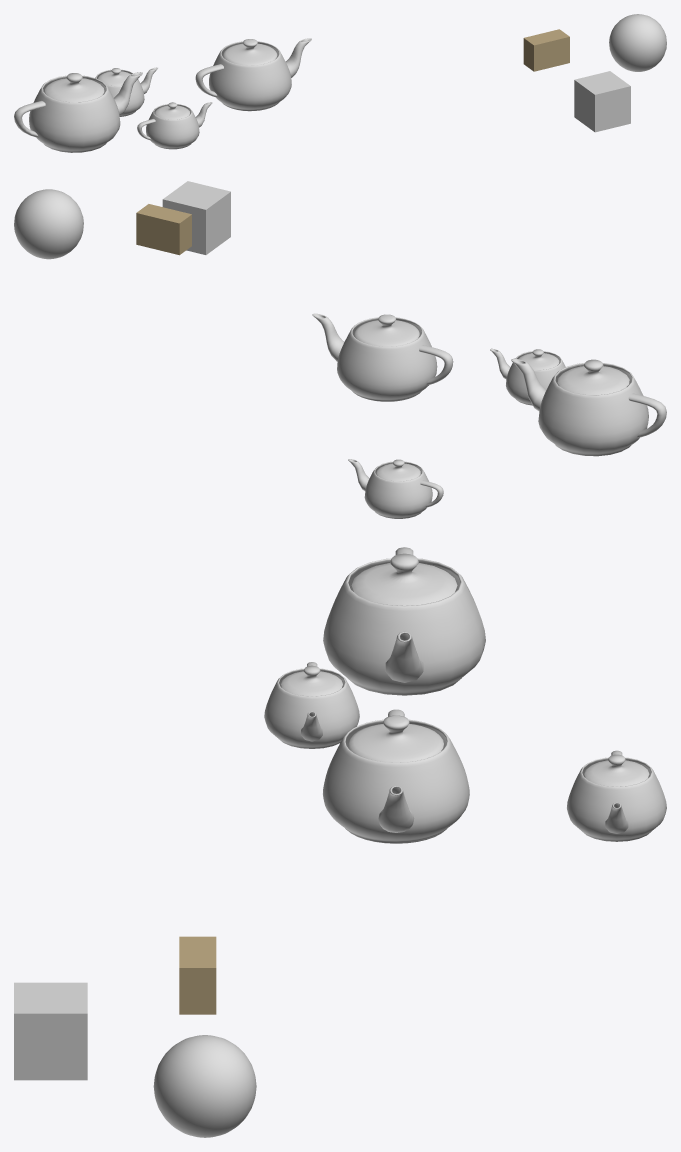
Rendered from sample_FBX201600_binary.fbx.
3 views of the same model, one above another, from view 1: azimuth 30°, elevation 25°; view 2: azimuth 150°, elevation 25°; view 3: azimuth 270°, elevation 25° (orthographic). The views are drawn at different scales.
Visible parts, largest first — view 1: Teapot_as_box, Teapot_default, Cube, Sphere001, Teapot_frozen, Box001, Teapot_no_render; view 2: Teapot_as_box, Teapot_default, Sphere001, Teapot_no_render, Cube, Box001, Teapot_frozen; view 3: Teapot_as_box, Teapot_default, Sphere001, Cube, Teapot_no_render, Teapot_frozen, Box001.
Part boxes in pixels (box(x1,y1,x2,y2)): Teapot_as_box: box(14, 72, 142, 152); Teapot_default: box(195, 38, 311, 111); Cube: box(574, 71, 630, 132); Sphere001: box(609, 14, 666, 71); Teapot_frozen: box(137, 102, 212, 149); Box001: box(523, 29, 569, 71); Teapot_no_render: box(95, 67, 158, 116); Teapot_as_box: box(511, 358, 666, 456); Teapot_default: box(312, 313, 453, 401); Sphere001: box(14, 189, 83, 259); Teapot_no_render: box(348, 459, 443, 518); Cube: box(162, 181, 230, 254); Box001: box(136, 204, 191, 255); Teapot_frozen: box(490, 348, 565, 405); Teapot_as_box: box(323, 547, 485, 695); Teapot_default: box(323, 709, 469, 843); Sphere001: box(153, 1035, 256, 1137); Cube: box(14, 982, 87, 1080); Teapot_no_render: box(567, 750, 666, 841); Teapot_frozen: box(264, 662, 359, 748); Box001: box(179, 936, 216, 1014).
Bounding box in the file's own units: 82.46 × 44.41 × 13.72.
